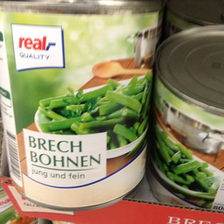beans: (3, 2, 161, 204)
